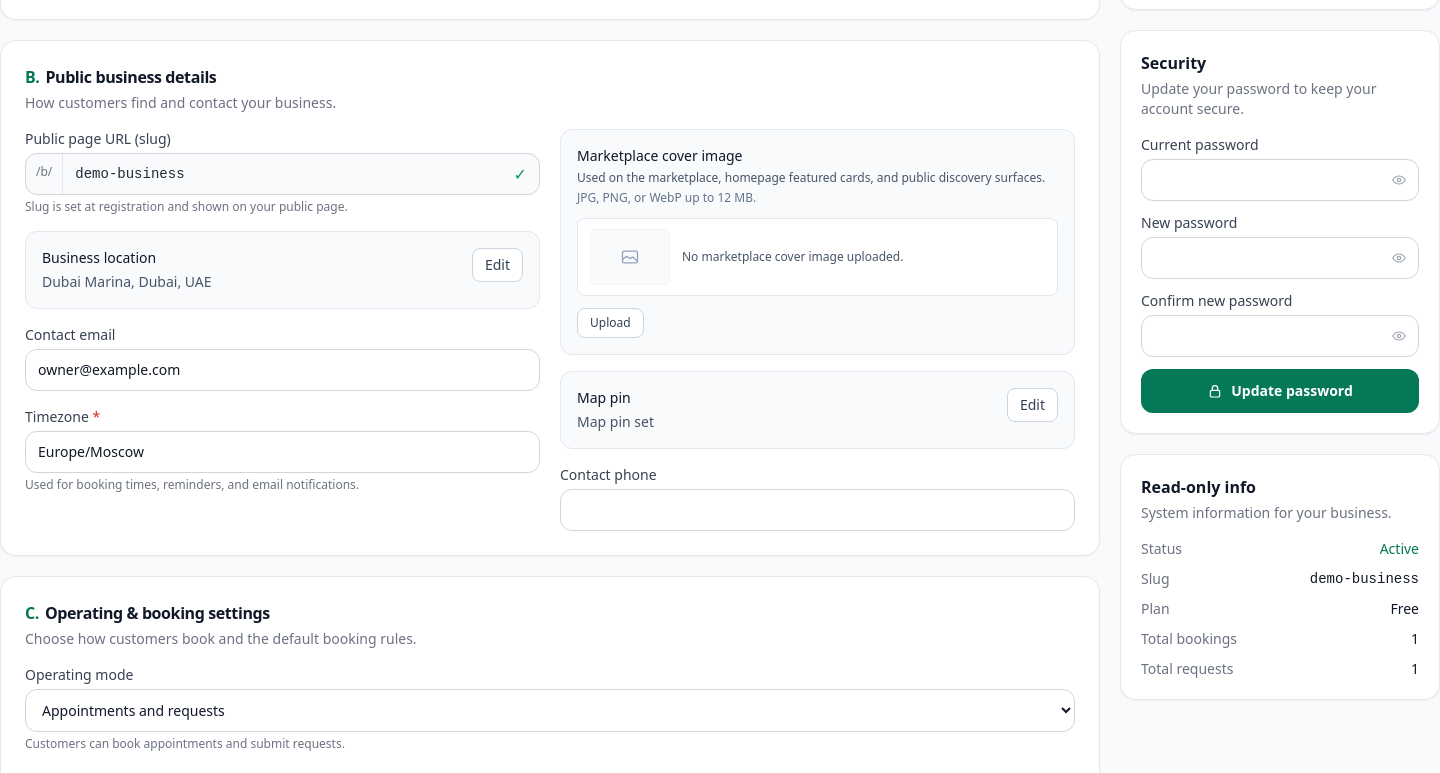
admin business map pin settings › shows validation error for invalid longitude
This screenshot has width=1440, height=773.
(page scrolled)
Click the button with test id "admin-business-map-pin-edit" at point(1032, 405), box [1007,388,1058,422]
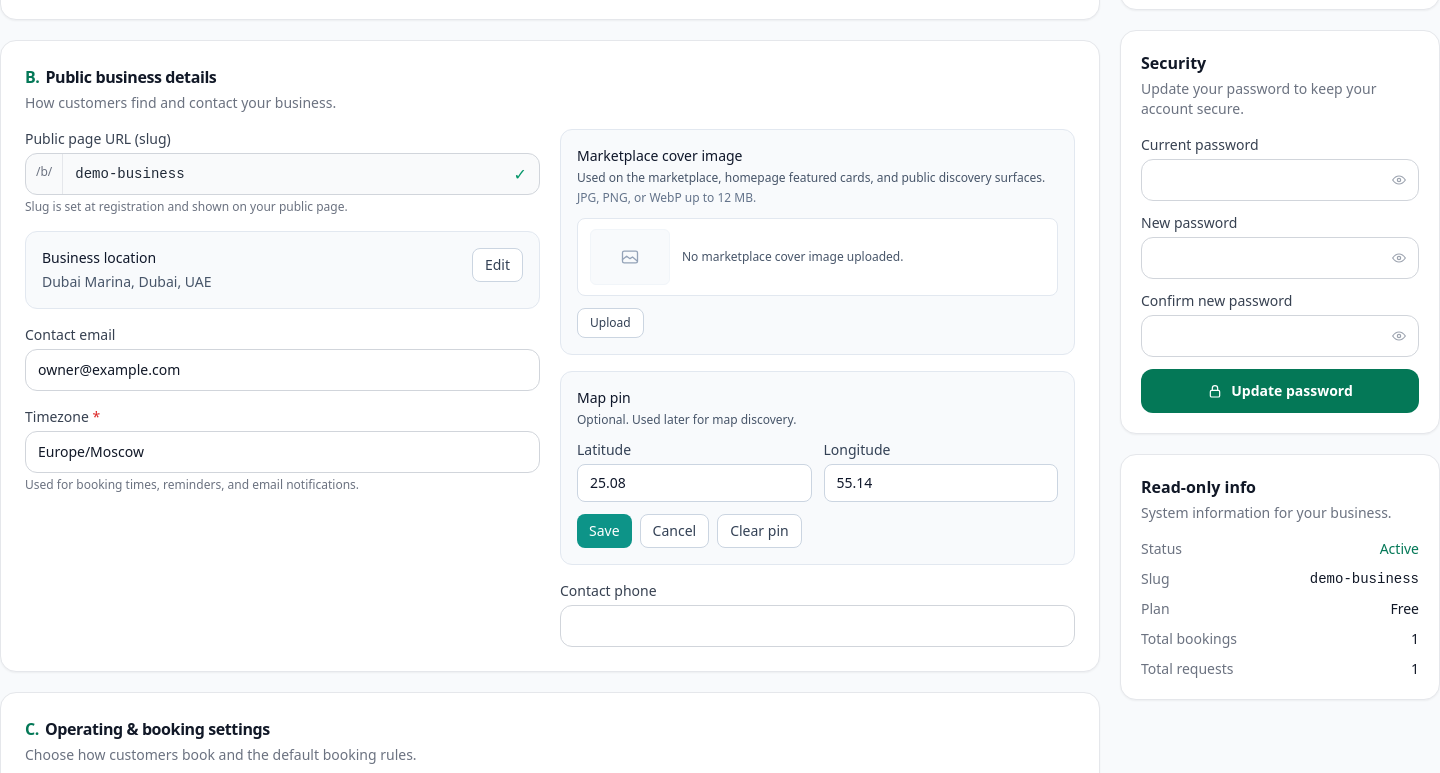
Replace the text in the field labelled "Longitude" with "999" at point(941, 483), box [824,464,1058,502]
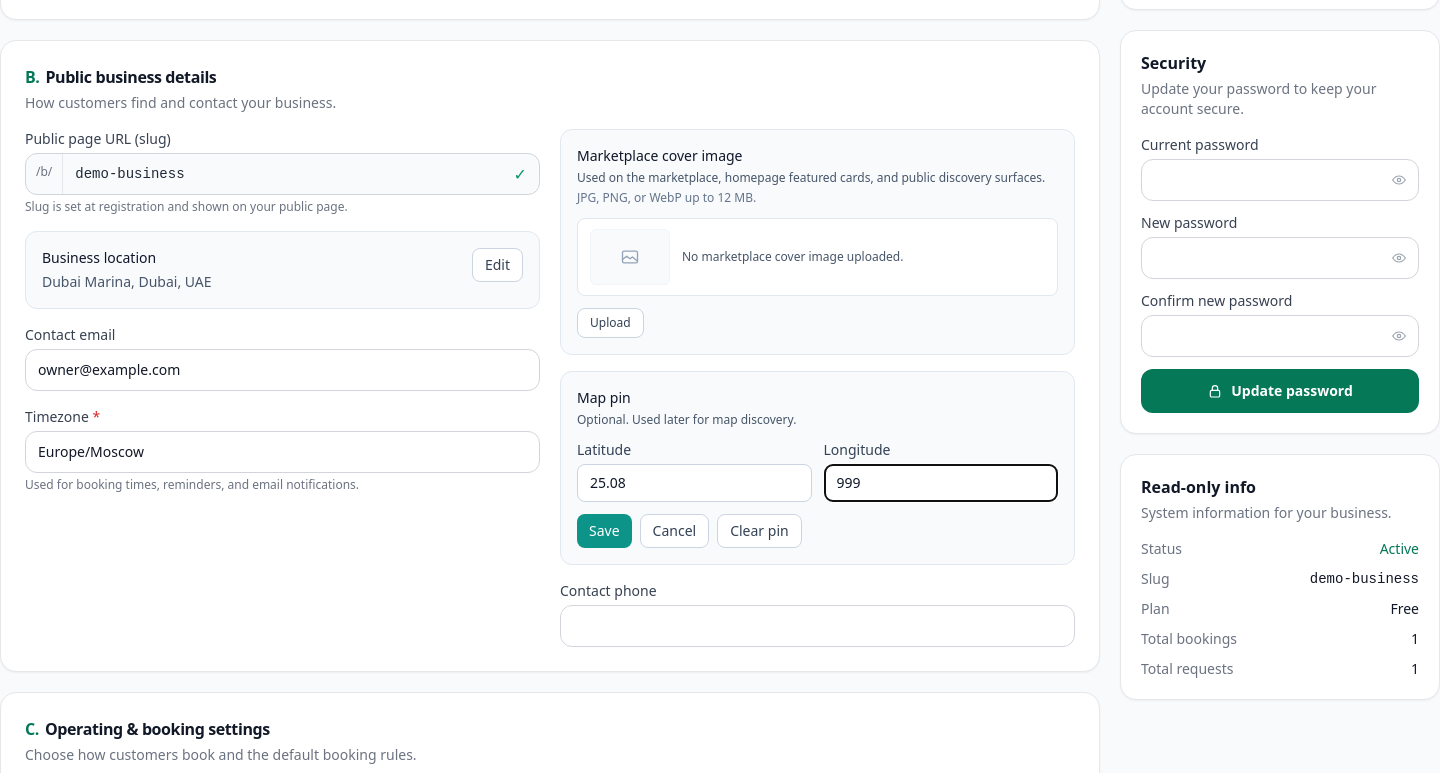
Click the button with test id "admin-business-map-pin-save" at point(604, 531), box [577,514,632,548]
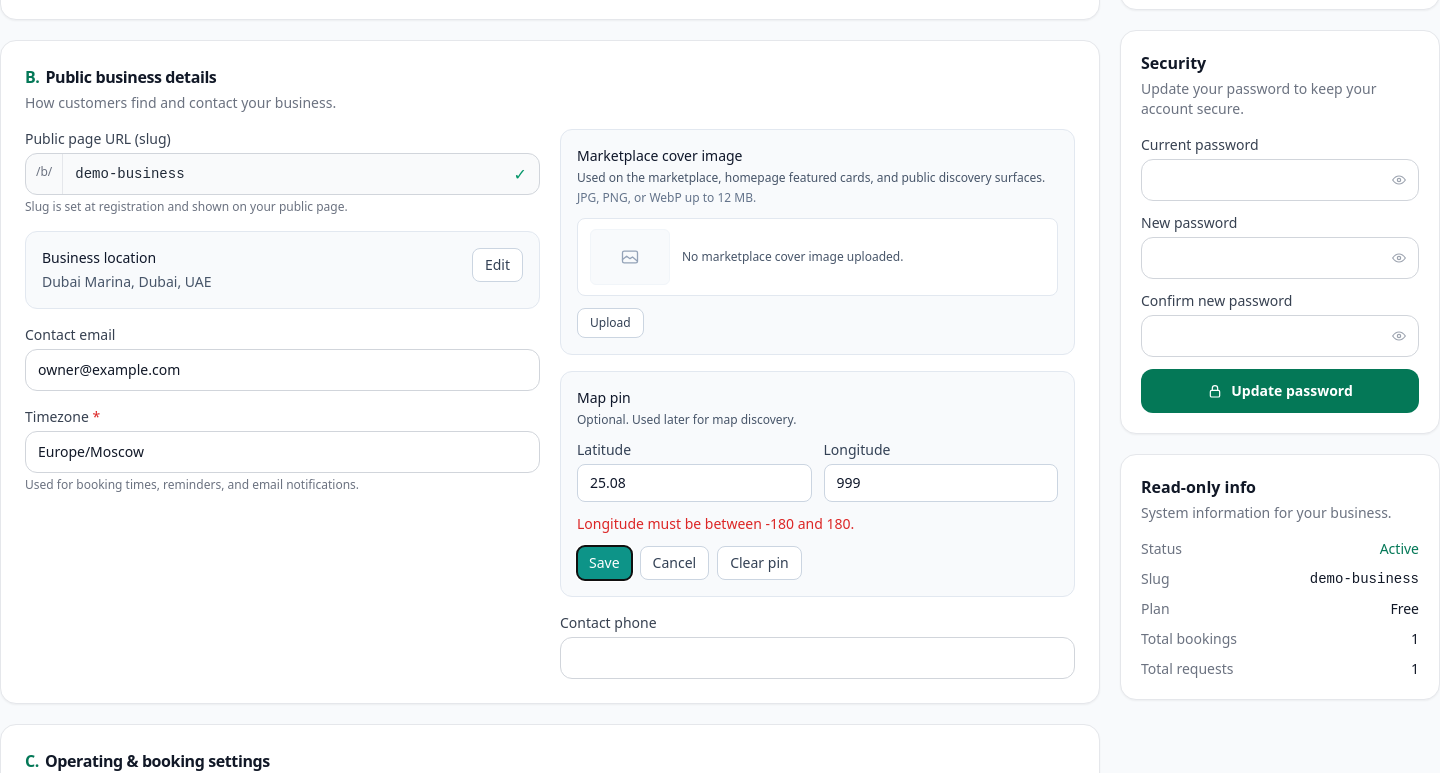
Result: the text "Longitude must be between -180 and 180." is shown at [577,514,854,533]
